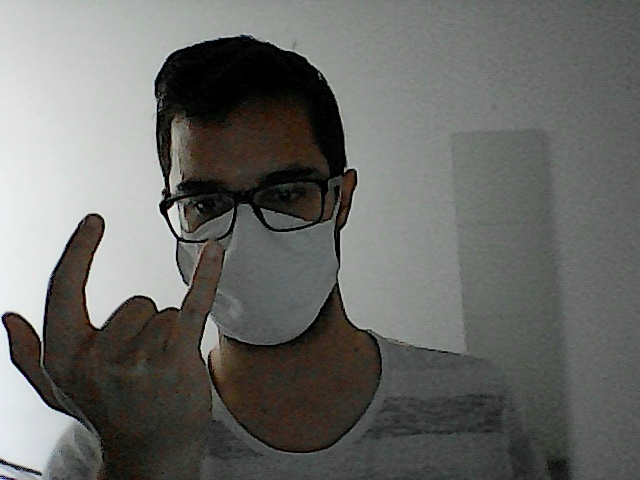shoot: (2, 206, 242, 451)
